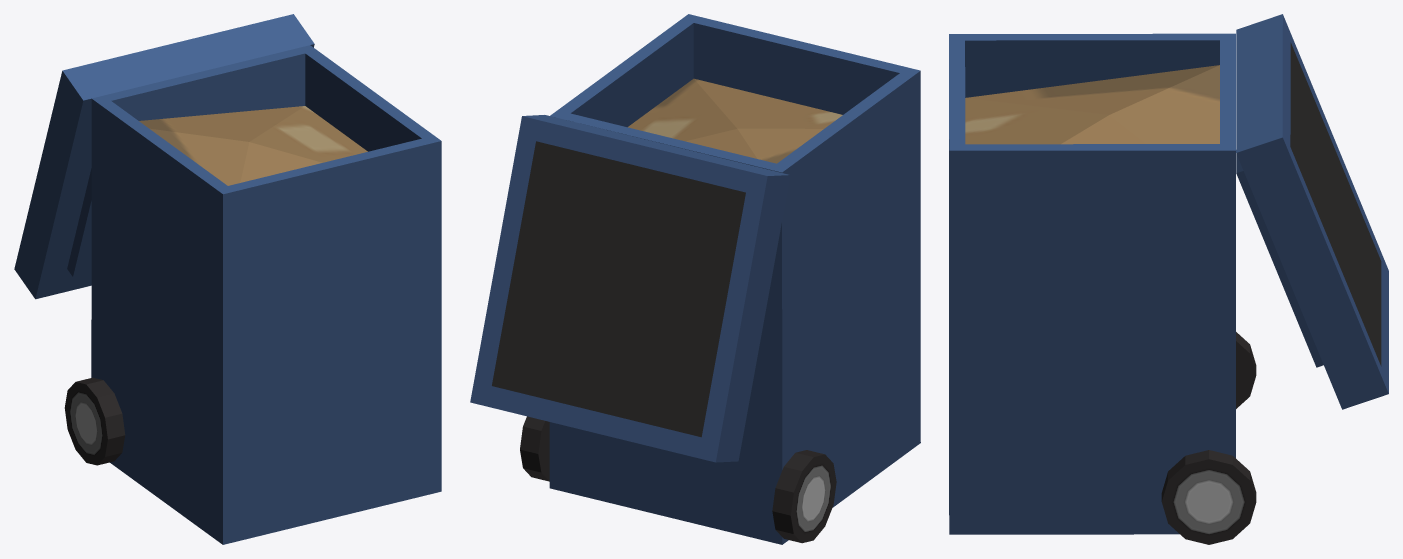
Rendered from SM_WheelieBin_Open_03.fbx.
The picture shows the model from 3 angles, left to right: view 1: azimuth 30°, elevation 25°; view 2: azimuth 150°, elevation 25°; view 3: azimuth 270°, elevation 25°; orthographic projection. The views are drawn at different scales.
Parts seen in each view (by area): view 1: SM_WheelieBin_Open_03; view 2: SM_WheelieBin_Open_03; view 3: SM_WheelieBin_Open_03.
Part boxes in pixels (x1=…): SM_WheelieBin_Open_03: x1=14, y1=14, x2=441, y2=544; SM_WheelieBin_Open_03: x1=470, y1=14, x2=920, y2=544; SM_WheelieBin_Open_03: x1=949, y1=14, x2=1388, y2=544.
Bounding box in the file's own units: 1.17 × 1.6 × 1.59.
